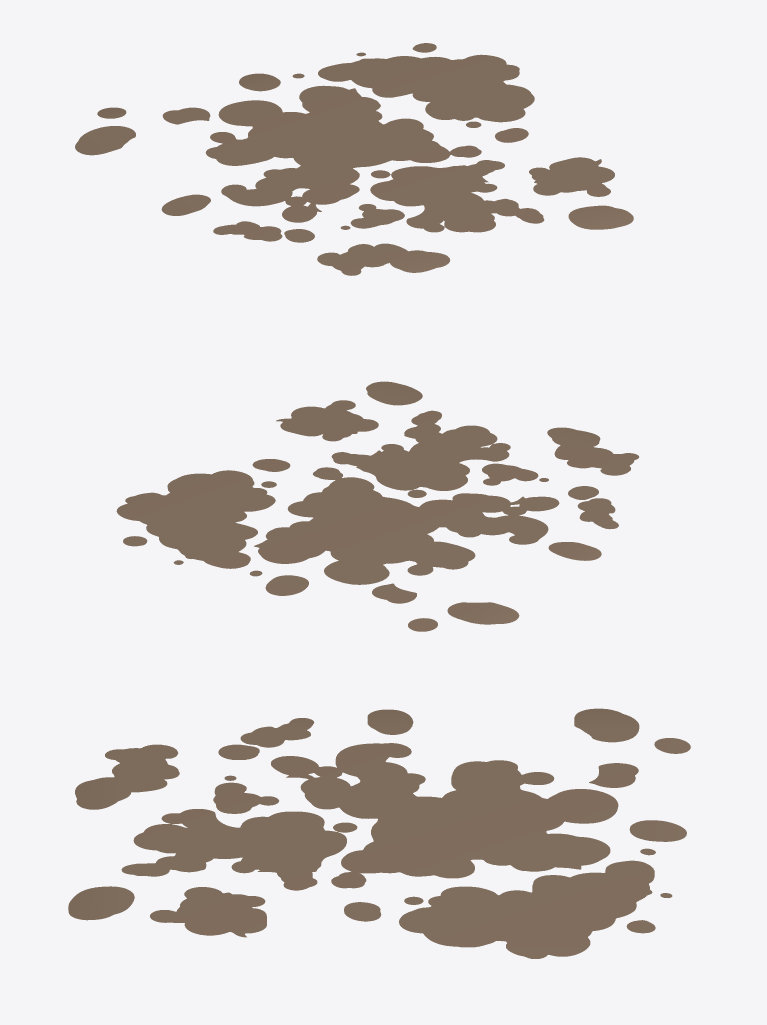
The model's file is G_Soil_Unplowed.fbx.
The picture shows the model from 3 angles, top to bottom: view 1: azimuth 30°, elevation 25°; view 2: azimuth 150°, elevation 25°; view 3: azimuth 270°, elevation 25°; orthographic projection. The views are drawn at different scales.
Visible parts, largest first — view 1: lod1; view 2: lod1; view 3: lod1.
Part boxes in pixels (box(x1,y1,x2,y2)): lod1: box(75, 43, 633, 275); lod1: box(116, 381, 638, 631); lod1: box(68, 708, 690, 958).
Size of what is drawn, in the model's own units: 100 by 2.36 by 100.
Materials: 1 (1 with a texture image).
